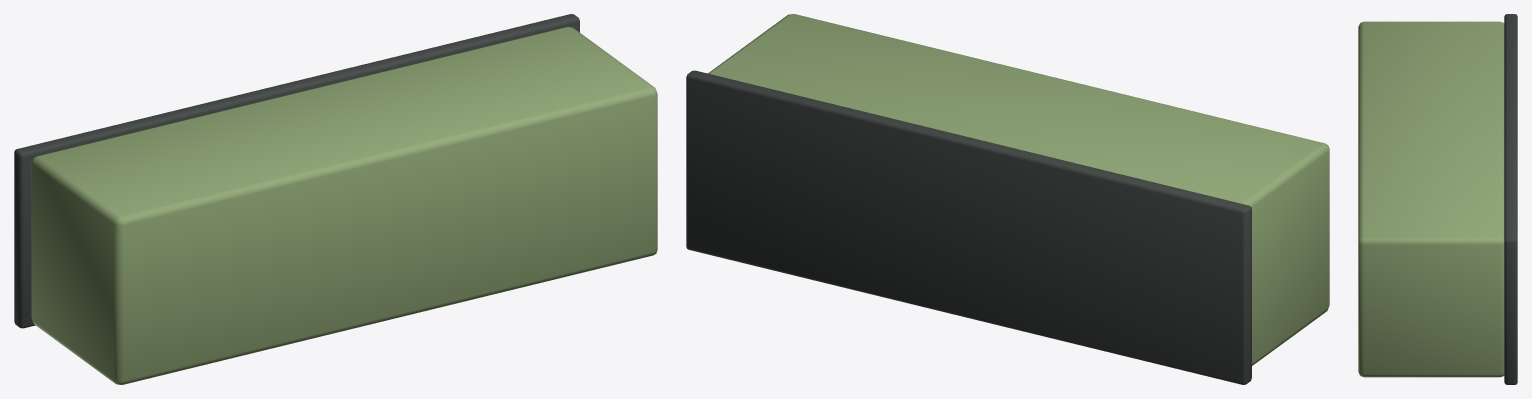
File: equipment_checkout_counter.glb
3 views of the same model, side by side, from view 1: azimuth 30°, elevation 25°; view 2: azimuth 150°, elevation 25°; view 3: azimuth 270°, elevation 25° (orthographic). The views are drawn at different scales.
Visible parts, largest first — view 1: Counter, Top; view 2: Top, Counter; view 3: Counter, Top.
Part boxes in pixels (<box>): Counter: <box>31,27,657,384</box>; Top: <box>14,14,579,328</box>; Top: <box>686,70,1251,384</box>; Counter: <box>708,14,1329,365</box>; Counter: <box>1358,21,1504,377</box>; Top: <box>1504,14,1517,384</box>.
Bounding box in the file's own units: 3.2 × 0.96 × 0.95.
